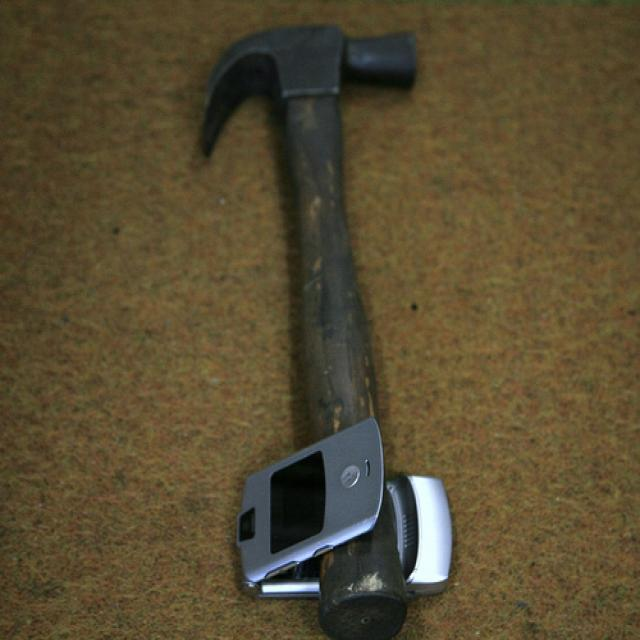hammer: (188, 16, 428, 403)
